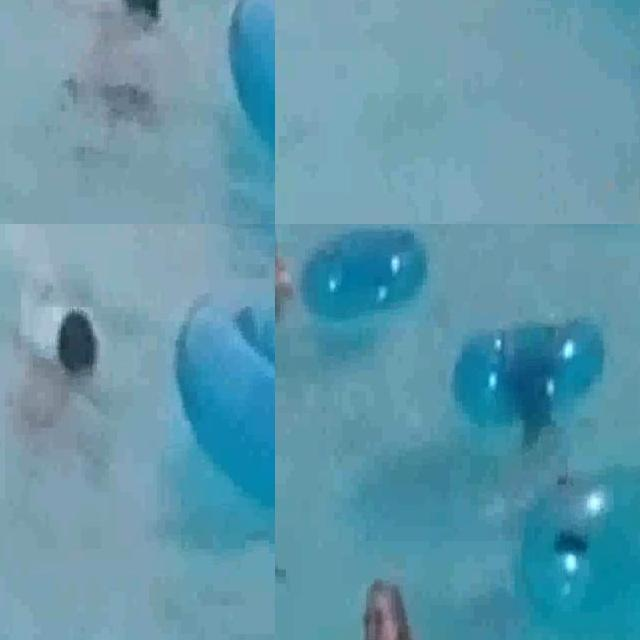drowning: (0, 266, 127, 508), (27, 0, 219, 134), (513, 440, 607, 518)
swimming: (332, 579, 461, 640), (275, 224, 339, 325)
